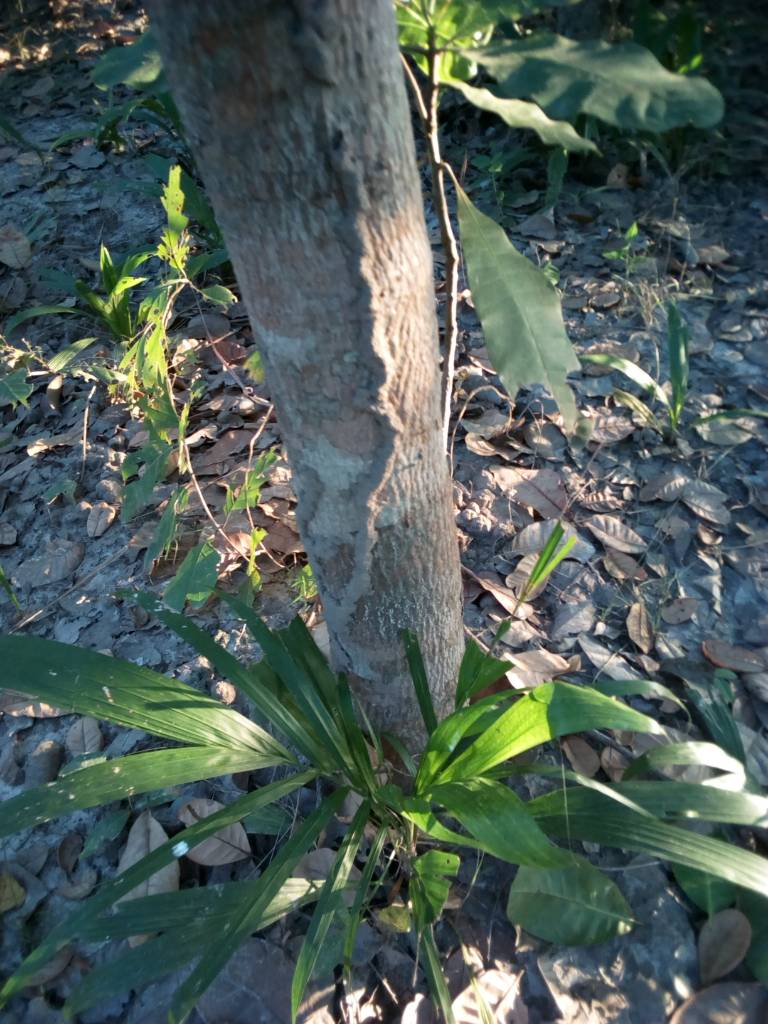Termites: (305, 22, 425, 622)
